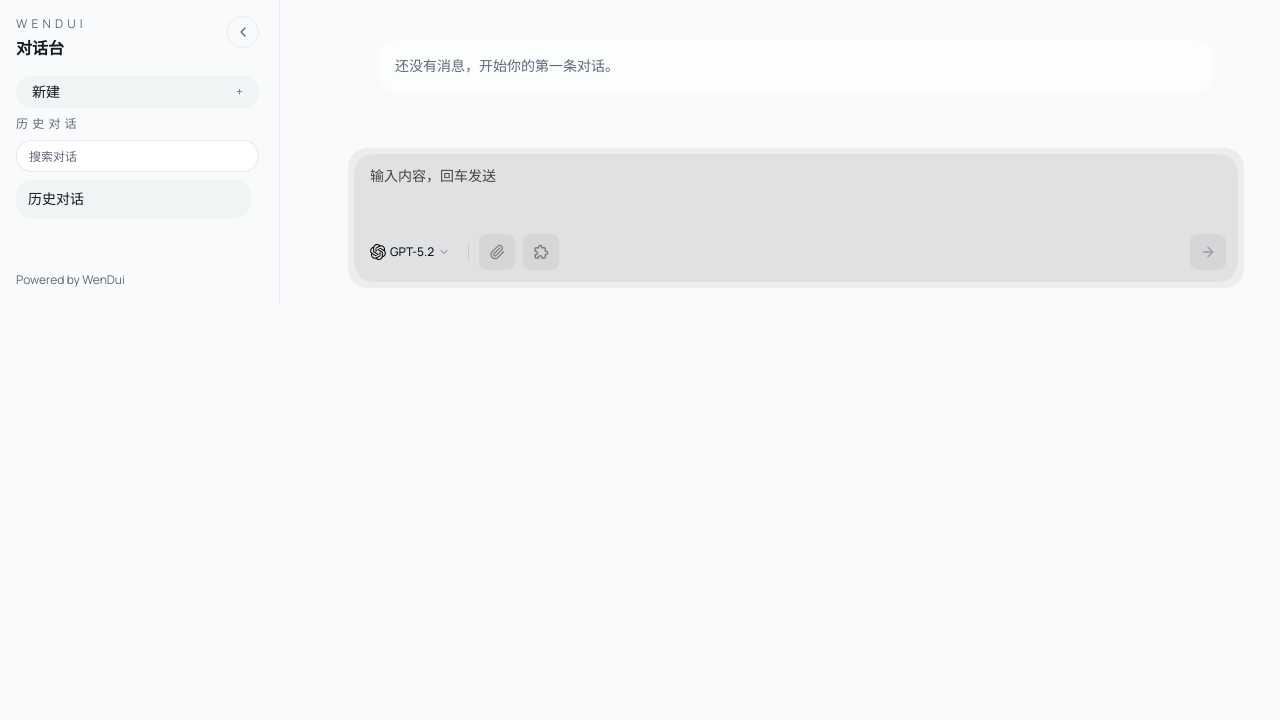
Test: opens skill picker when clicking skill icon
Click the button named "选择技能".
click(541, 252)  # box [523,234,559,270]
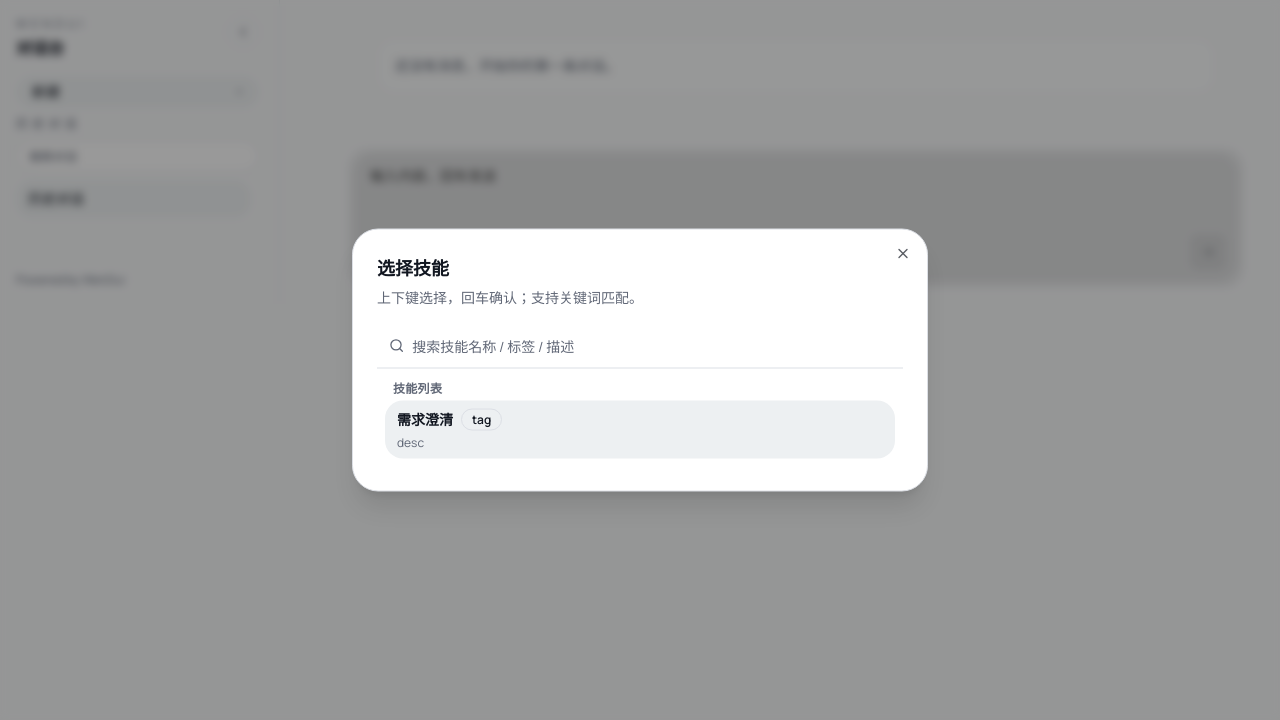
Expected: the heading "选择技能" is shown, [377,256,449,280]
